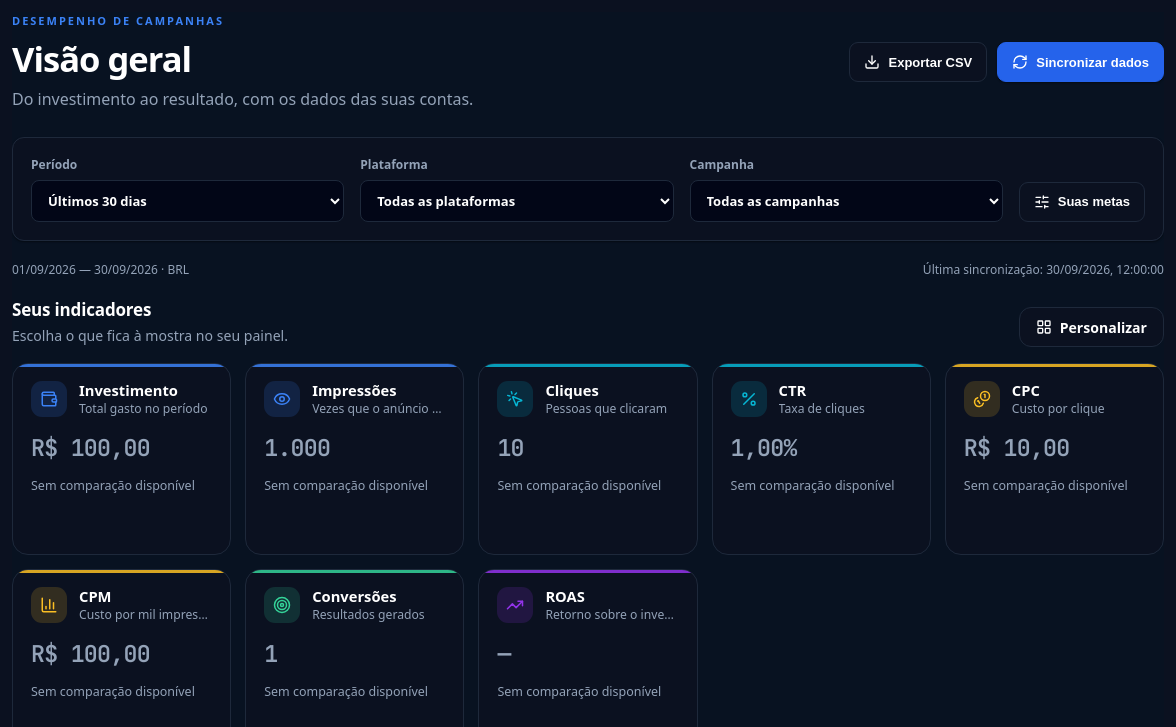
Test case: metas na análise completa › mostra a mensagem de erro de Metas quando o servidor não explica
The width and height of the screenshot is (1176, 727).
Click the button "Suas metas": click(1082, 202) [1019,182,1145,222]
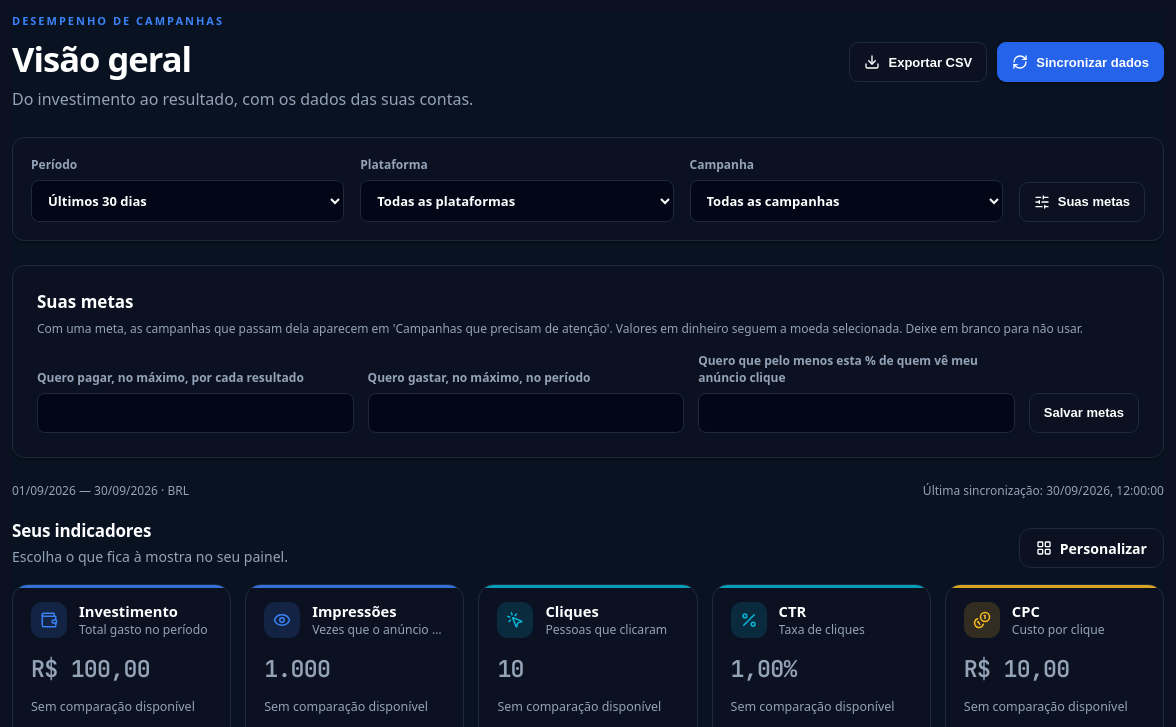
Click the button "Salvar metas": click(1084, 413) [1029,393,1139,433]
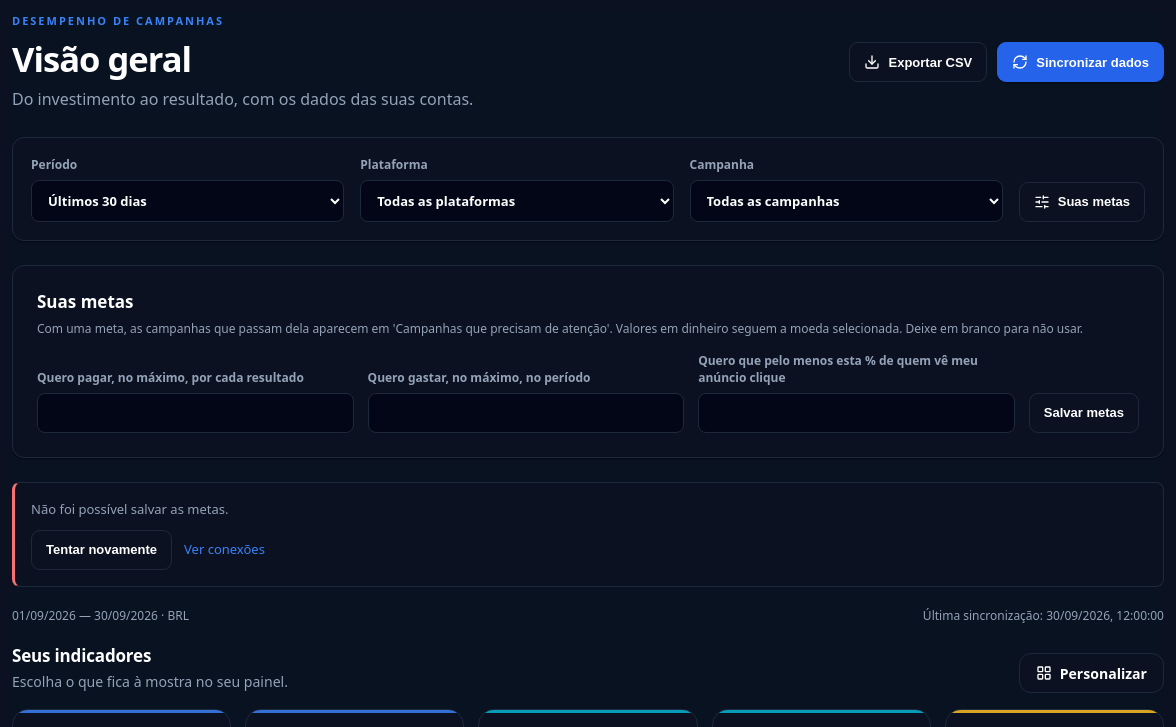
Check: the message shows "Não foi possível salvar as metas.", box [31,500,228,518]
